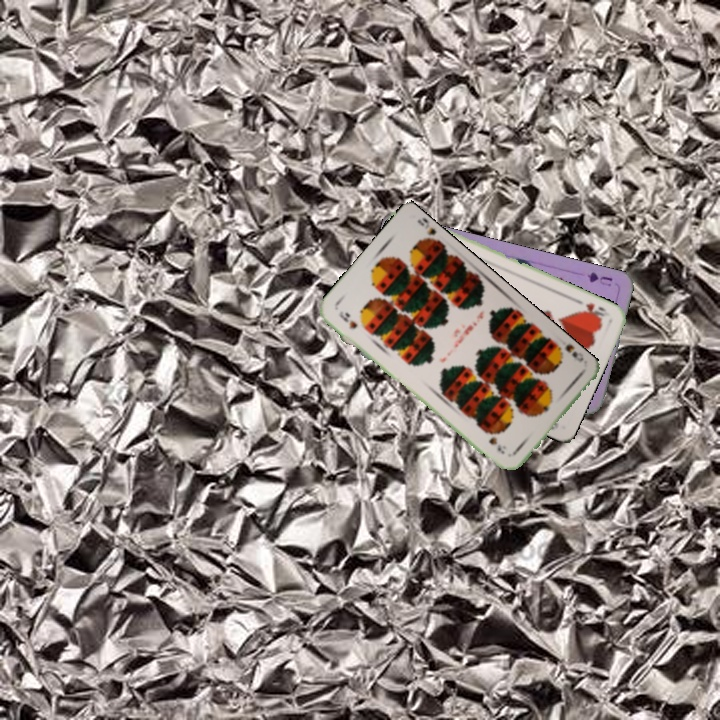GU: (583, 268, 615, 289)
HO: (573, 296, 609, 322)
S9: (551, 340, 586, 365), (335, 307, 360, 332)
